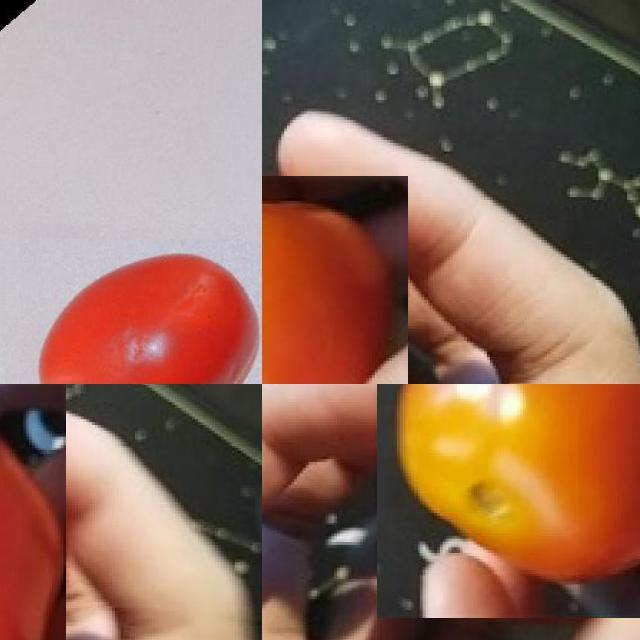Fresh Tomato: (19, 224, 262, 384), (262, 165, 398, 384), (0, 387, 77, 640)
Rotten Tomato: (374, 384, 640, 614)
